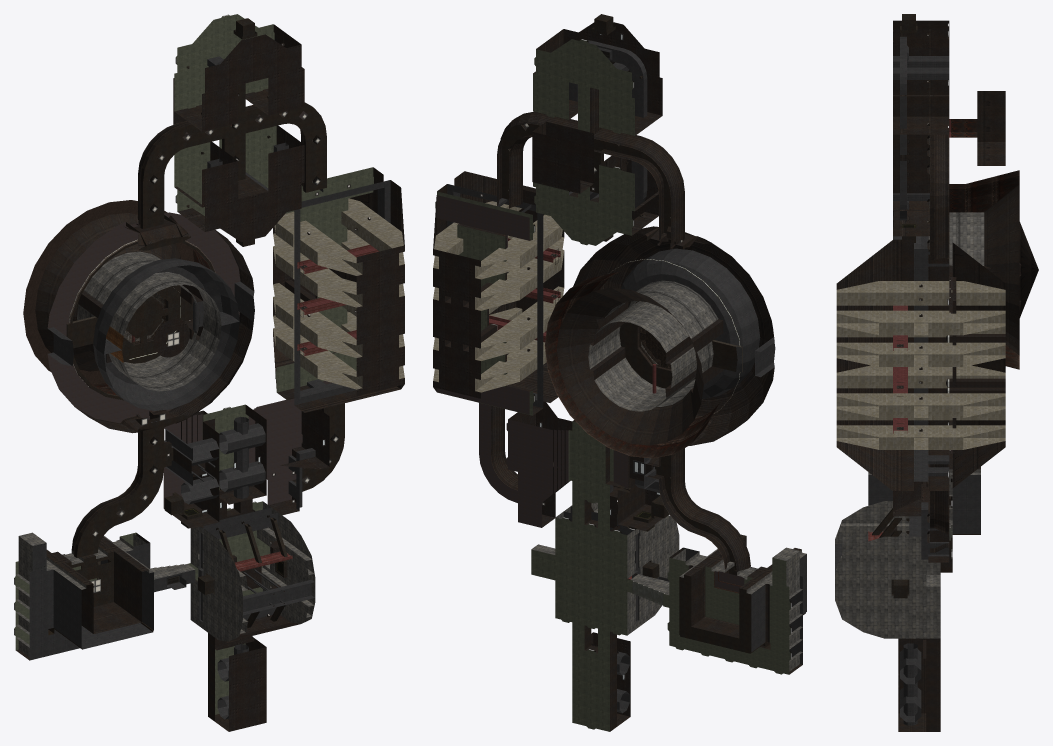
The model's file is DOM-Ironworks.obj.
3 views of the same model, side by side, from view 1: azimuth 30°, elevation 25°; view 2: azimuth 150°, elevation 25°; view 3: azimuth 270°, elevation 25° (orthographic).
Parts seen in each view (by area): view 1: Metalmys_MysIrn13, Metalmys_MysMetl2, Mine_Base_MCMETL, uttech2_Floor_rClfFlr9x, UTtech1_Wall_ClifCon8, UTtech1_Floor_hashlow-cont, UTtech1_Wall_ClifBrk3, Metalmys_MysIrn10, UTtech1_Wall_ClifBrk4, Metalmys_MysIron1, Metalmys_MysIrn12, Mine_Base_BASEIRM3 (+8 smaller); view 2: uttech2_Floor_rClfFlr9x, Metalmys_MysIrn13, Metalmys_MysIron1, Metalmys_MysMetl2, UTtech1_Wall_ClifBrk3, UTtech1_Floor_hashlow-cont, UTtech1_Wall_ClifCon8, Mine_Base_MCMETL, Metalmys_MysIrn12, Metalmys_MysIrn10, Mine_Wall_IRNWALL4, Metalmys_MysMetl1 (+6 smaller); view 3: UTtech1_Wall_ClifCon8, UTtech1_Wall_ClifBrk3, Metalmys_MysMetl2, Metalmys_MysIron1, Metalmys_MysIrn10, Metalmys_MysIron5, Metalmys_MysIron2, Metalmys_MysIrn12, Metalmys_MysIrn13, Metalmys_MysIron8, Metalmys_MysIrn11, Mine_Wall_IRNWALL4 (+6 smaller).
Boxes of the visible parts, x1,y1,x2,y2 form: Metalmys_MysIrn13: (16,34,404,731); Metalmys_MysMetl2: (29,56,390,719); Mine_Base_MCMETL: (66,18,370,627); uttech2_Floor_rClfFlr9x: (14,14,373,714); UTtech1_Wall_ClifCon8: (273,198,404,389); UTtech1_Floor_hashlow-cont: (47,111,330,508); UTtech1_Wall_ClifBrk3: (16,285,315,657); Metalmys_MysIrn10: (81,24,301,721); UTtech1_Wall_ClifBrk4: (77,251,221,391); Metalmys_MysIron1: (71,93,404,578); Metalmys_MysIrn12: (35,213,180,423); Mine_Base_BASEIRM3: (23,200,193,383); uttech2_Floor_rClfFlr9x: (435,39,790,731); Metalmys_MysIrn13: (433,22,802,716); Metalmys_MysIron1: (464,87,774,647); Metalmys_MysMetl2: (447,45,806,713); UTtech1_Wall_ClifBrk3: (531,301,806,671); UTtech1_Floor_hashlow-cont: (436,195,744,592); UTtech1_Wall_ClifCon8: (433,201,564,392); Mine_Base_MCMETL: (502,14,791,653); Metalmys_MysIrn12: (556,231,703,445); Metalmys_MysIrn10: (536,29,746,731); Mine_Wall_IRNWALL4: (544,271,741,593); Metalmys_MysMetl1: (569,40,730,622); UTtech1_Wall_ClifCon8: (836,281,1005,449); UTtech1_Wall_ClifBrk3: (835,469,980,638); Metalmys_MysMetl2: (835,45,980,725); Metalmys_MysIron1: (836,134,951,552); Metalmys_MysIrn10: (893,20,949,731); Metalmys_MysIron5: (893,239,949,731); Metalmys_MysIron2: (952,222,1038,487); Metalmys_MysIrn12: (984,184,1019,355); Metalmys_MysIrn13: (883,30,1021,693); Metalmys_MysIron8: (893,95,949,236); Metalmys_MysIrn11: (940,91,1005,572); Mine_Wall_IRNWALL4: (965,170,1019,369).
Size of the model in its own units: 72.54 by 136 by 35.36.
